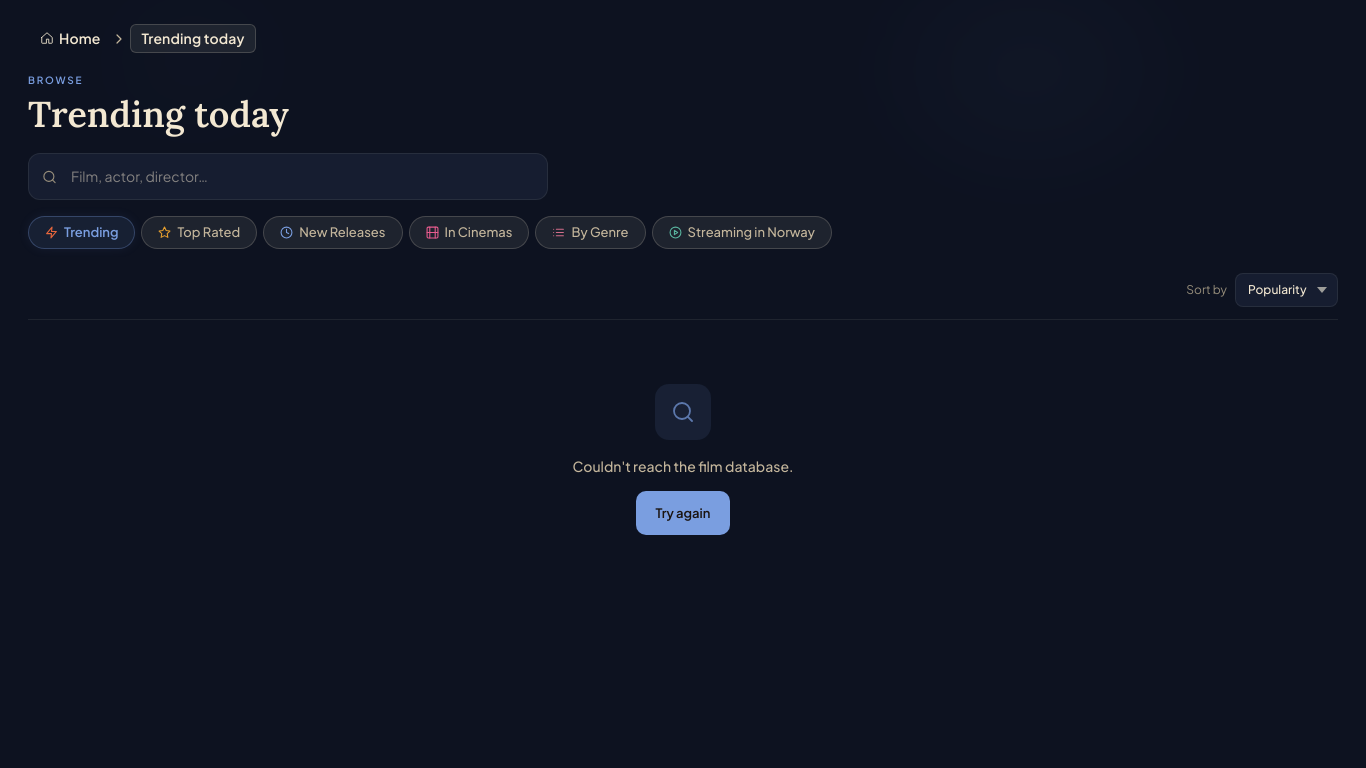
Test: /browse categories › shows an outage as an error, not as no films; Try again fetches again
Expected: the message shows "Couldn't reach the film database.", [572, 457, 793, 475]
What coordinates should you click on to do the following:
click the button "Try again"
I would click on:
 (683, 513)
Its box is [636, 491, 730, 535].
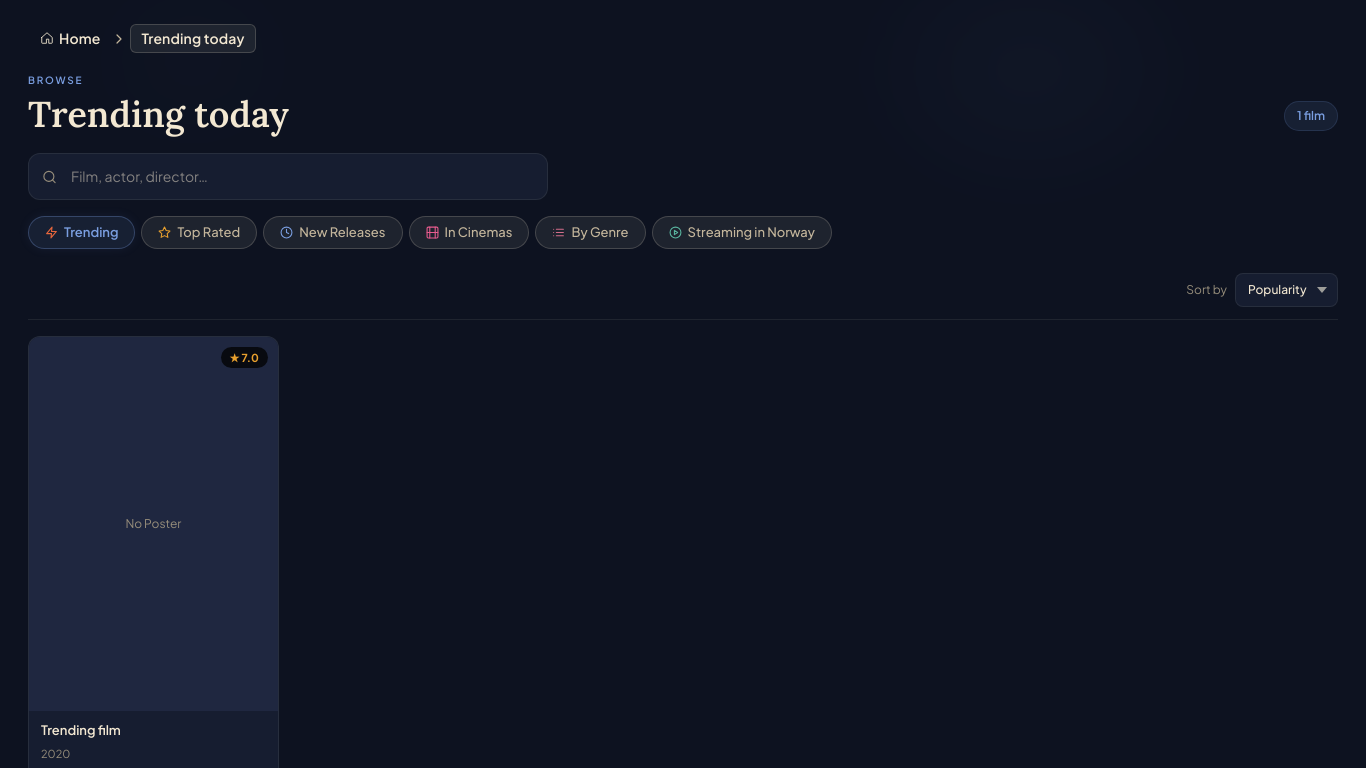
Result: the heading "Trending film" is shown at [41, 722, 121, 738]
Result: the message "Couldn't reach the film database. Try again" is gone
